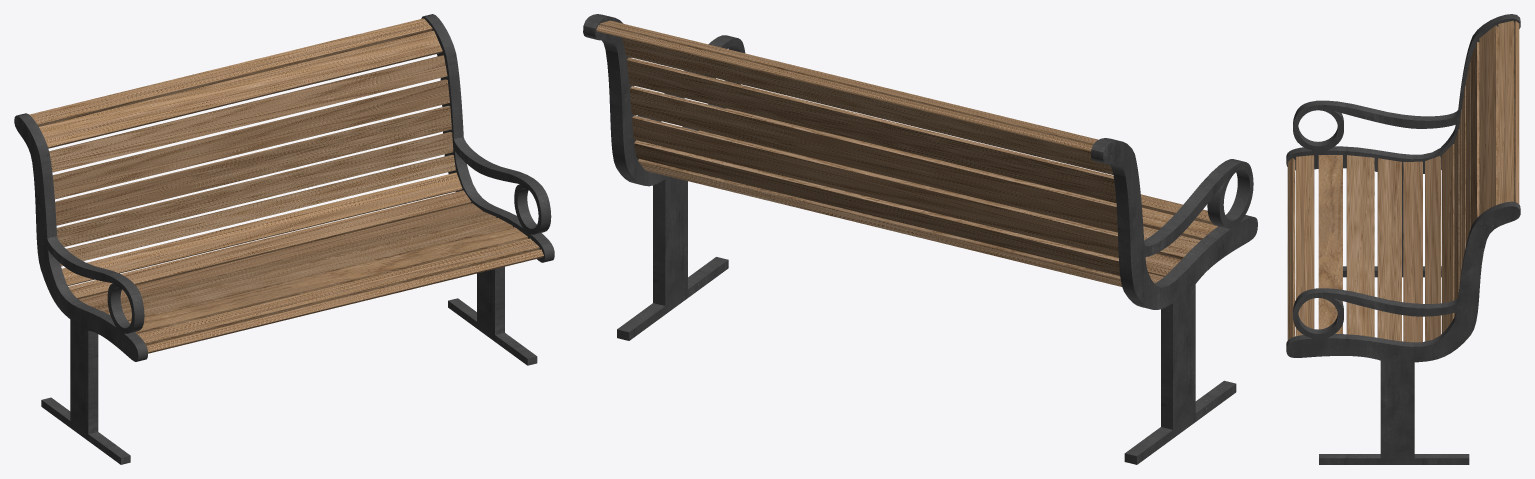
The model's file is bench.obj.
3 renders of one model, left to right at view 1: azimuth 30°, elevation 25°; view 2: azimuth 150°, elevation 25°; view 3: azimuth 270°, elevation 25°, orthographic. The views are drawn at different scales.
Visible parts, largest first — view 1: Shape001_Mesh.002, Line002_Mesh.003, Line001_Mesh.004; view 2: Shape001_Mesh.002, Line002_Mesh.003, Line001_Mesh.004; view 3: Shape001_Mesh.002, Line001_Mesh.004, Line002_Mesh.003.
Part boxes in pixels (x1,y1,x2,y2): Shape001_Mesh.002: (29, 18, 543, 353); Line002_Mesh.003: (14, 113, 147, 464); Line001_Mesh.004: (421, 14, 554, 365); Shape001_Mesh.002: (596, 20, 1217, 286); Line002_Mesh.003: (1091, 138, 1257, 464); Line001_Mesh.004: (583, 14, 745, 340); Shape001_Mesh.002: (1287, 20, 1519, 342); Line001_Mesh.004: (1286, 201, 1520, 464); Line002_Mesh.003: (1286, 14, 1520, 277).
Size of the model in its own units: 2.84 by 1.78 by 1.47.
